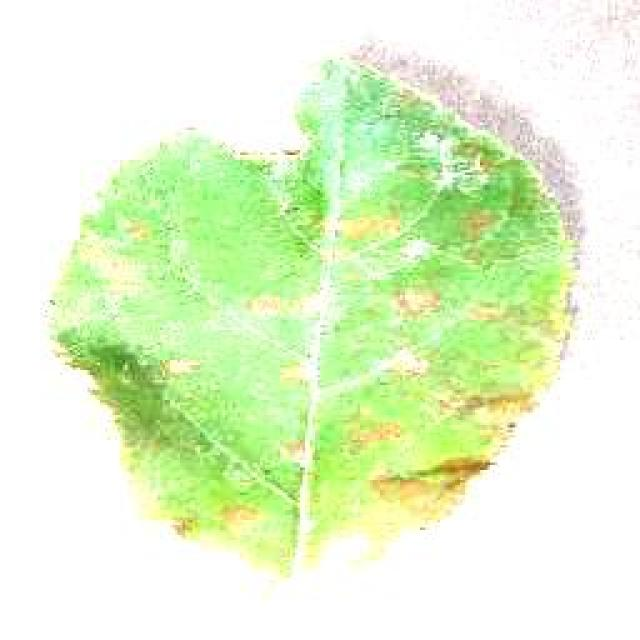apple rust disease: (42, 42, 582, 582)
